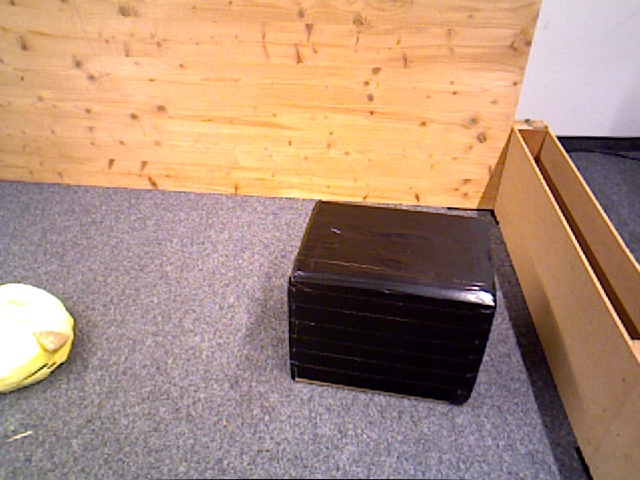grasp: (1, 282, 75, 397)
push: (292, 200, 495, 405)
